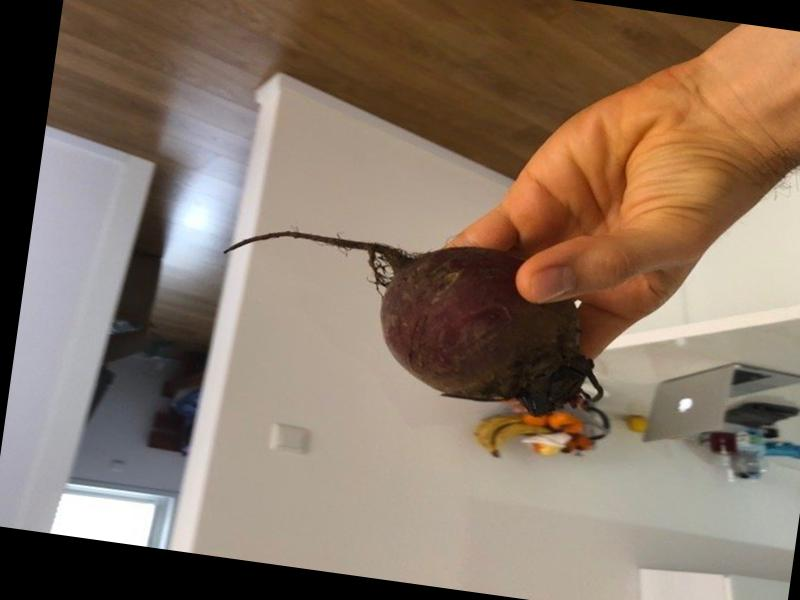Beet: (206, 214, 618, 422)
